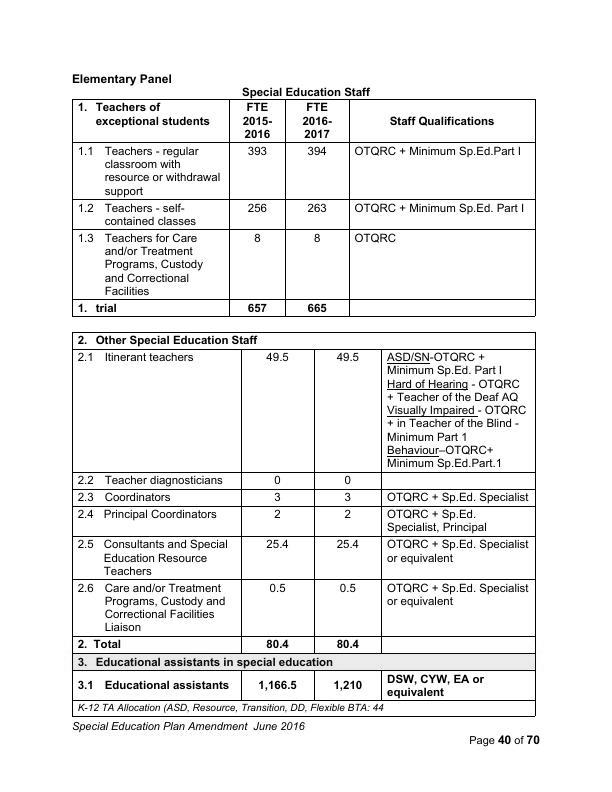table: (69, 329, 540, 721), (70, 96, 540, 320)
text: (69, 721, 308, 735), (67, 71, 179, 87), (240, 85, 374, 98), (464, 732, 545, 748)
